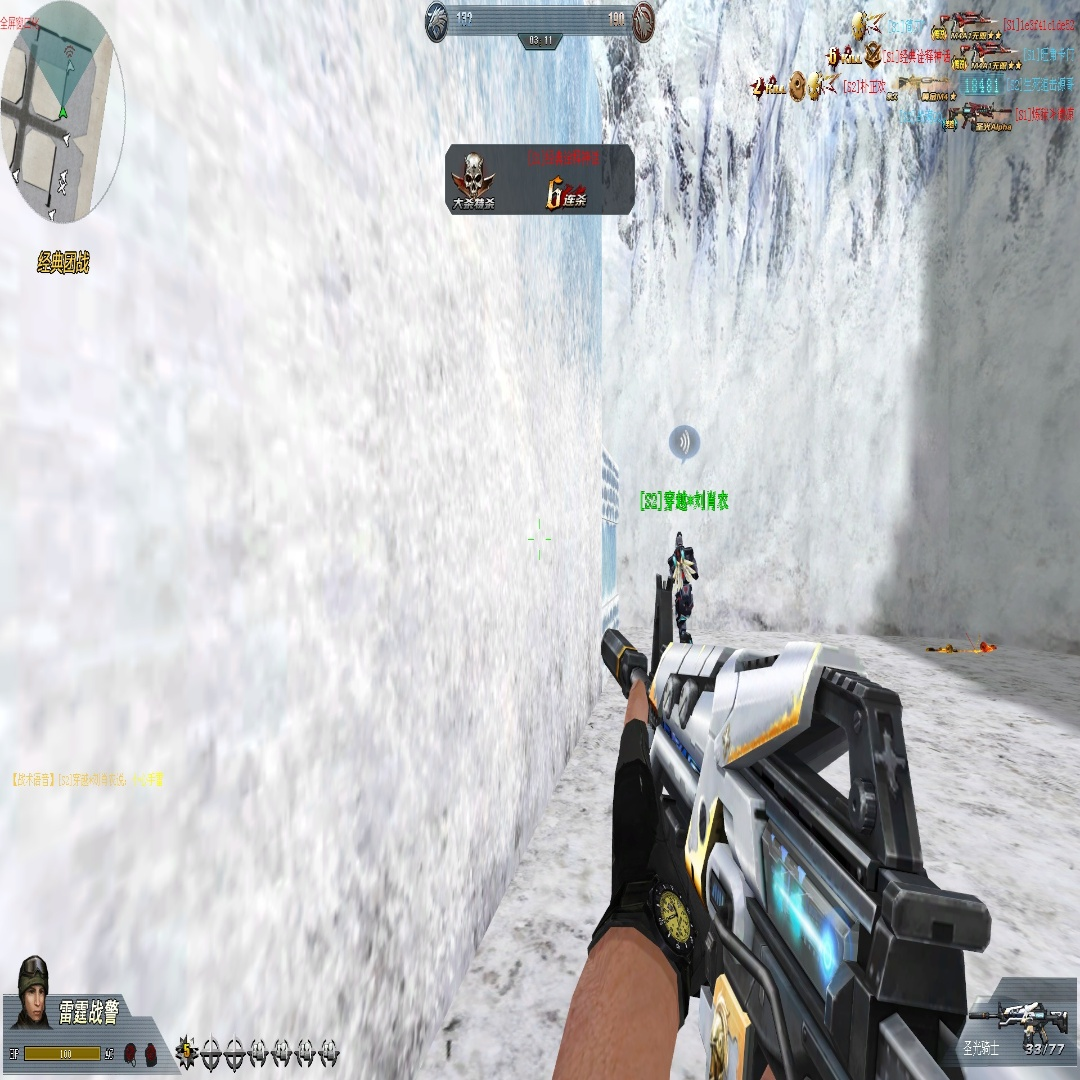ct: (669, 532, 696, 642)
